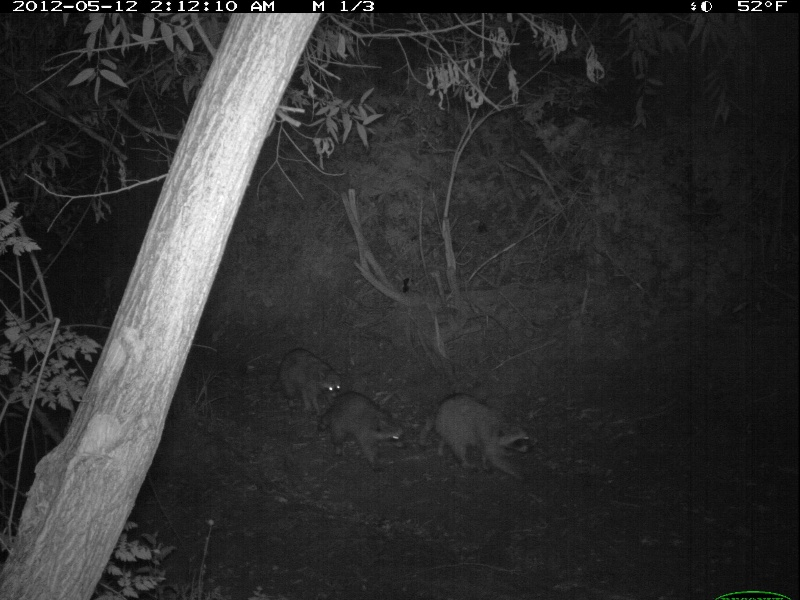raccoon: (418, 392, 534, 480), (314, 391, 411, 468), (271, 349, 345, 411)
